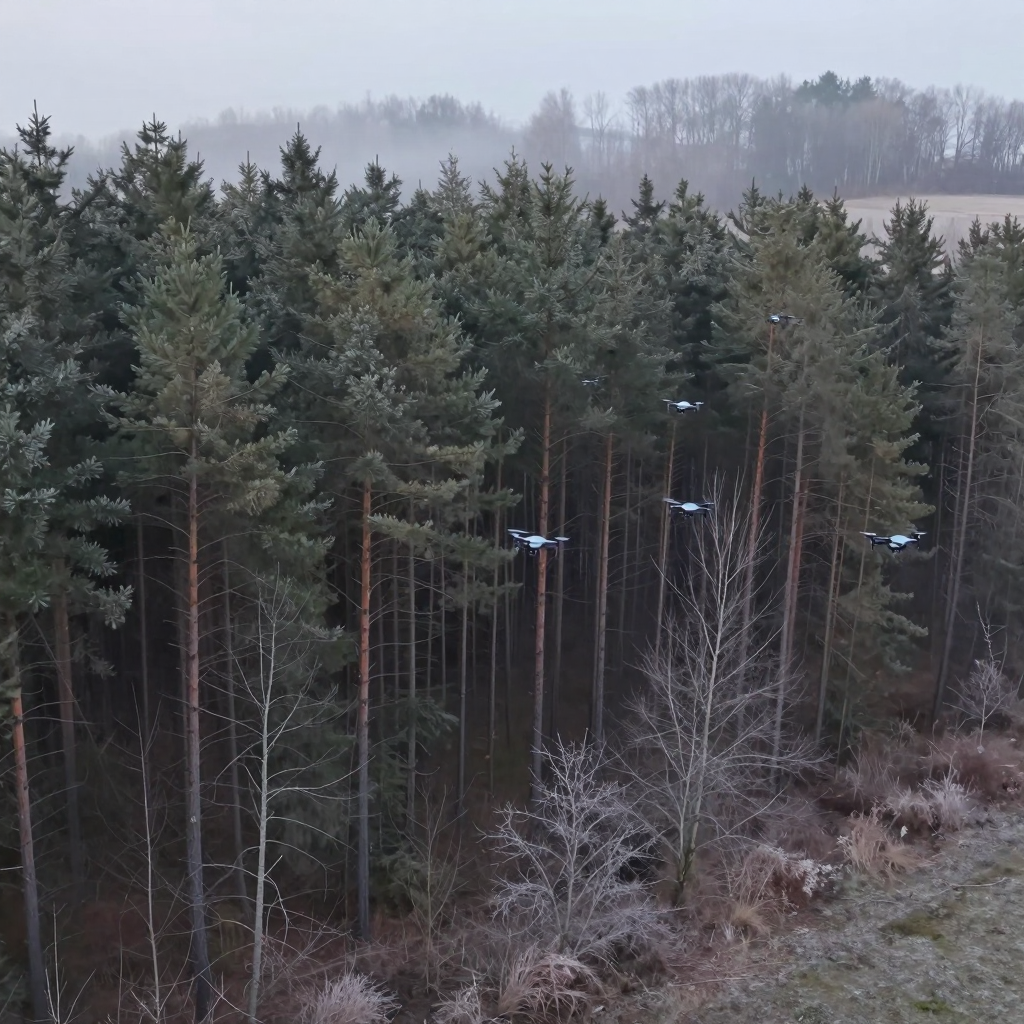drone: (506, 518, 568, 561), (860, 530, 921, 553), (659, 394, 707, 417), (662, 498, 715, 518), (762, 310, 800, 328)
